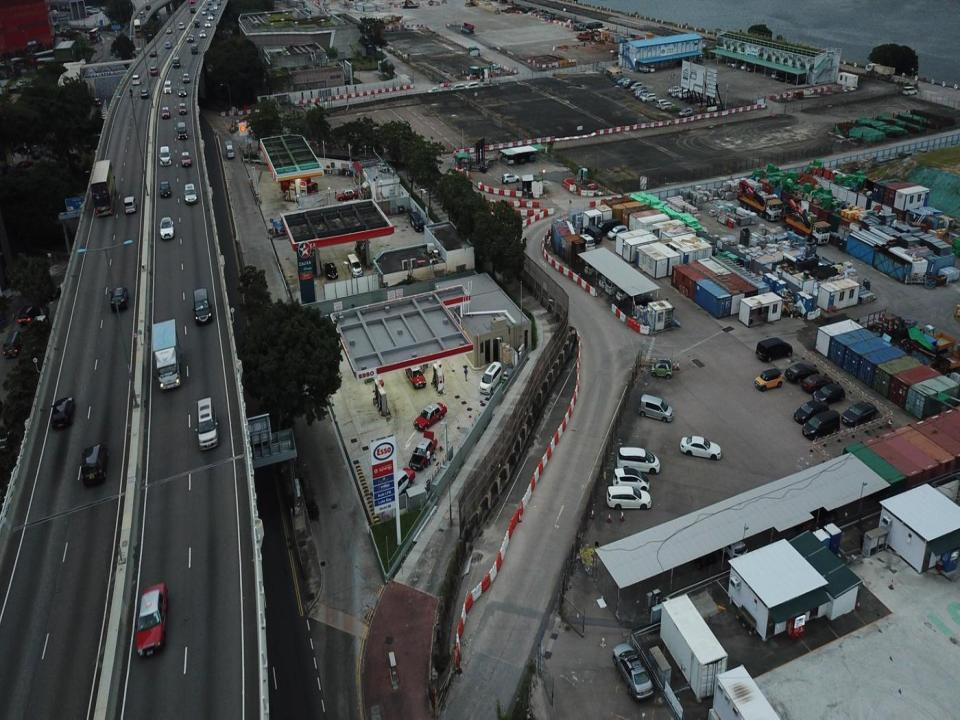bus: (89, 160, 113, 216), (89, 25, 102, 44), (131, 18, 141, 38)
car: (612, 641, 655, 701), (136, 582, 169, 653), (802, 408, 839, 440), (617, 446, 663, 471), (408, 434, 439, 471), (81, 443, 108, 485), (378, 467, 418, 495), (606, 486, 652, 510), (681, 435, 722, 460), (756, 336, 793, 362), (841, 401, 878, 427), (414, 402, 447, 430), (608, 467, 651, 487), (793, 396, 824, 422), (812, 383, 846, 406), (50, 394, 72, 428), (755, 366, 783, 391), (784, 360, 814, 382), (800, 374, 834, 391), (404, 364, 426, 389), (16, 305, 40, 327), (108, 286, 129, 310), (651, 359, 672, 379), (335, 186, 359, 202), (160, 218, 175, 240), (323, 260, 338, 280), (183, 184, 196, 206), (159, 145, 172, 167), (123, 195, 136, 214), (501, 172, 519, 184), (520, 149, 535, 163), (160, 180, 171, 198), (511, 152, 526, 165), (678, 105, 694, 117), (499, 154, 514, 166), (181, 151, 191, 166), (161, 105, 171, 120), (656, 98, 671, 108), (642, 62, 657, 72), (642, 92, 657, 102), (661, 102, 675, 112), (163, 80, 172, 94), (131, 74, 141, 86), (637, 64, 649, 74), (177, 103, 186, 115), (172, 56, 180, 68), (138, 8, 146, 20), (149, 66, 157, 76), (178, 87, 186, 97), (183, 72, 190, 83), (141, 90, 148, 100), (150, 48, 157, 58), (165, 26, 173, 34), (164, 40, 170, 50), (178, 22, 184, 30), (144, 3, 150, 11)
truck: (151, 320, 182, 391), (740, 175, 778, 221), (224, 139, 235, 159)
van: (195, 397, 218, 448), (640, 394, 674, 422), (479, 360, 503, 392), (192, 286, 211, 325), (345, 252, 364, 278), (3, 330, 21, 357), (409, 211, 426, 233), (177, 121, 188, 138)
